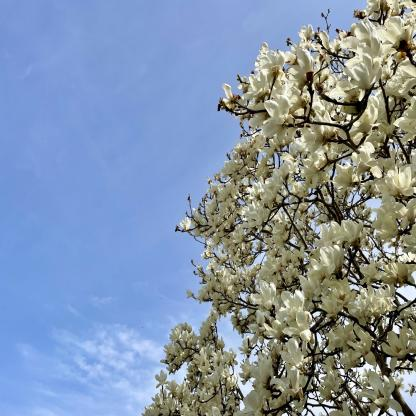Mokuren: (141, 0, 416, 416)
